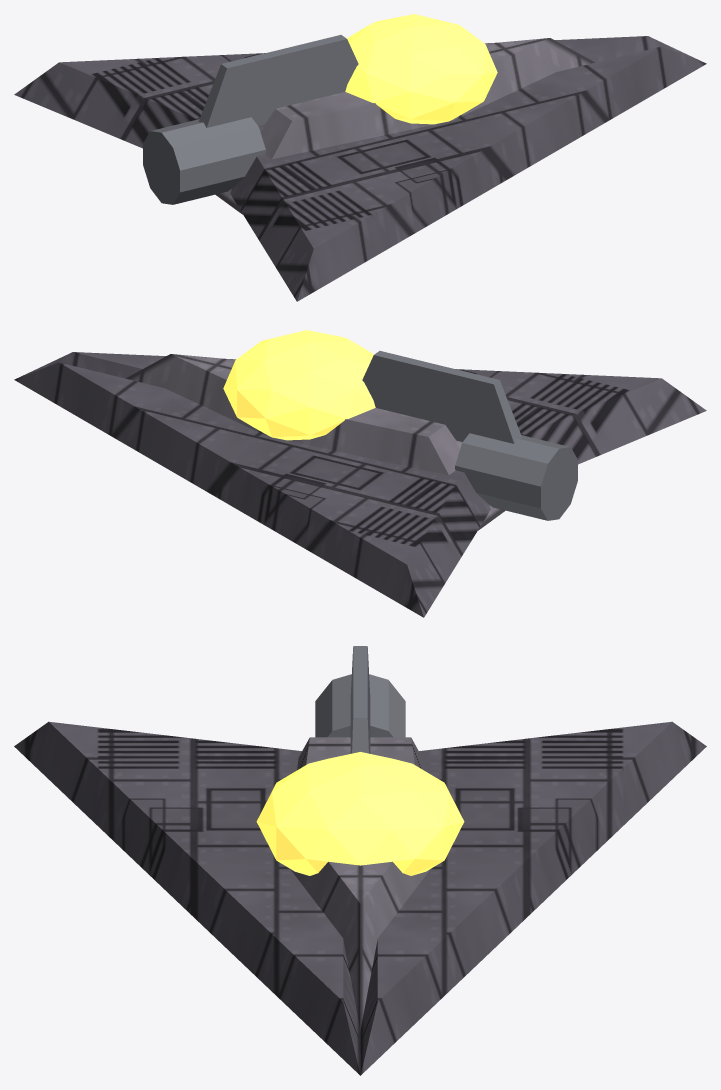
File: dart_ember.glb
The picture shows the model from 3 angles, top to bottom: view 1: azimuth 30°, elevation 25°; view 2: azimuth 150°, elevation 25°; view 3: azimuth 270°, elevation 25°; orthographic projection. The views are drawn at different scales.
Size of the model in its own units: 9 by 1.9 by 8.
Materials: 5 (2 with a texture image).
